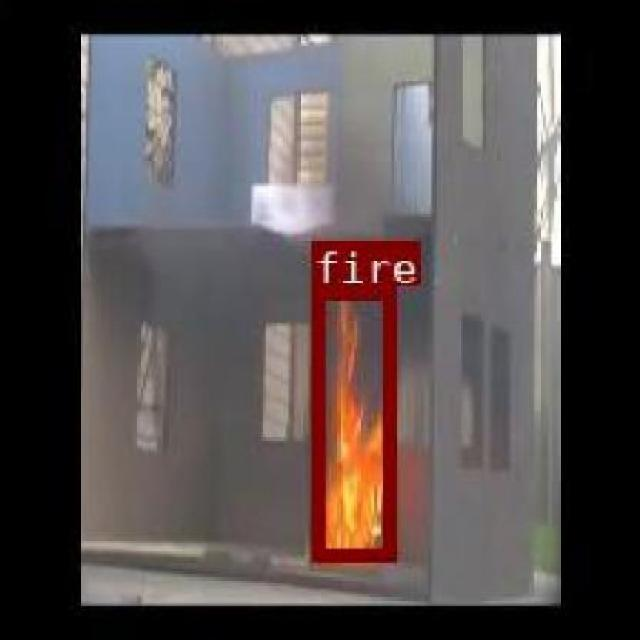Fire: (310, 284, 392, 560)
